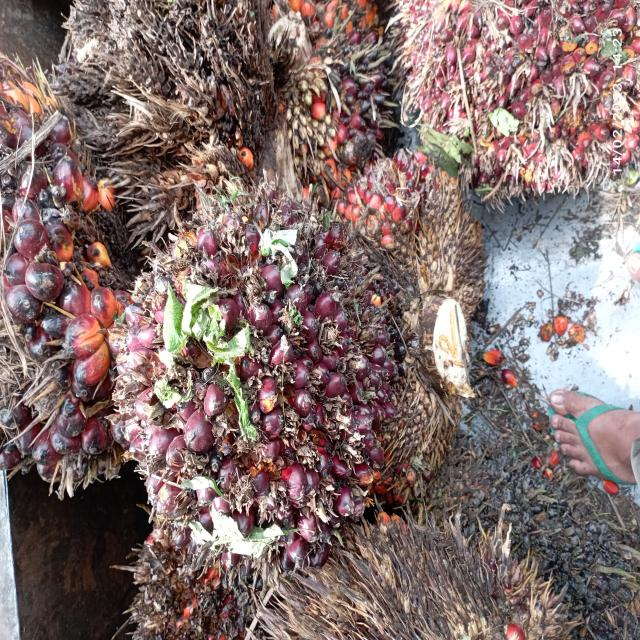fraksi 1: (106, 180, 402, 556)
